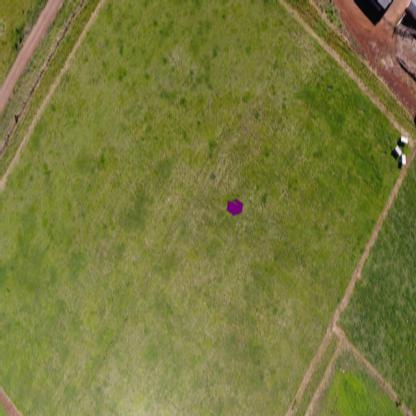T: (228, 197, 239, 206)
hexagon: (226, 198, 244, 217)
